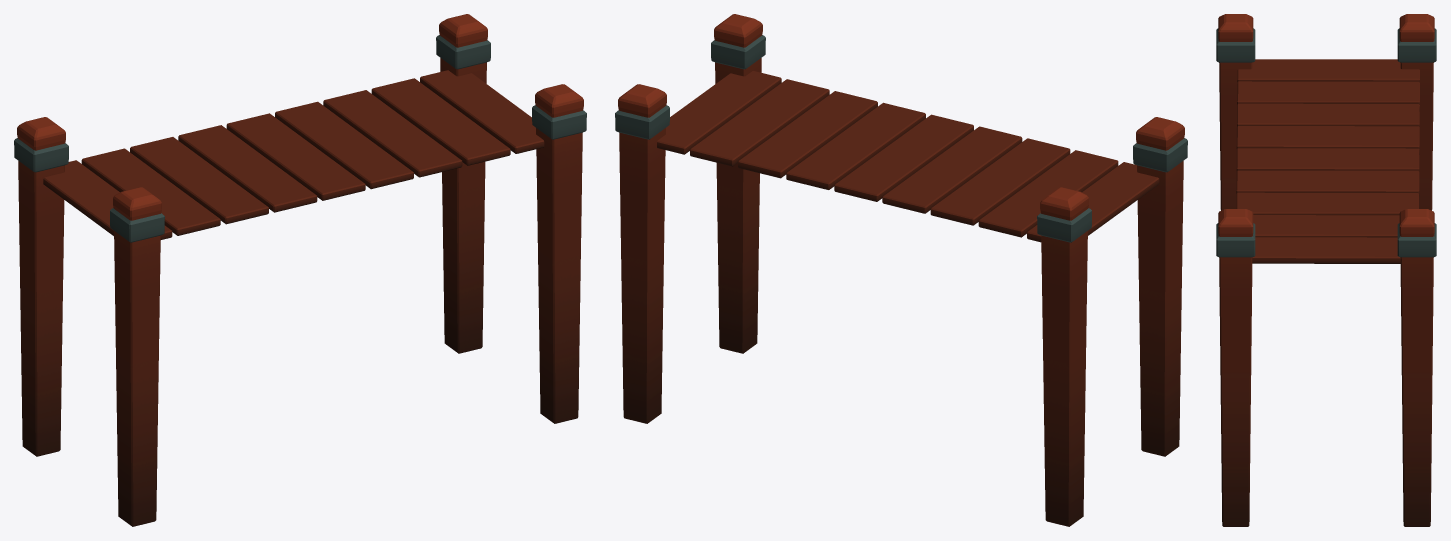
The model's file is FBX_Dock.fbx.
The picture shows the model from 3 angles, left to right: view 1: azimuth 30°, elevation 25°; view 2: azimuth 150°, elevation 25°; view 3: azimuth 270°, elevation 25°; orthographic projection. The views are drawn at different scales.
Visible parts, largest first — view 1: M_Dock; view 2: M_Dock; view 3: M_Dock.
Part boxes in pixels (x1,y1,x2,y2): M_Dock: [14, 14, 586, 526]; M_Dock: [615, 14, 1187, 526]; M_Dock: [1216, 14, 1436, 526].
Size of the model in its own units: 4.61 by 3.14 by 2.03.
